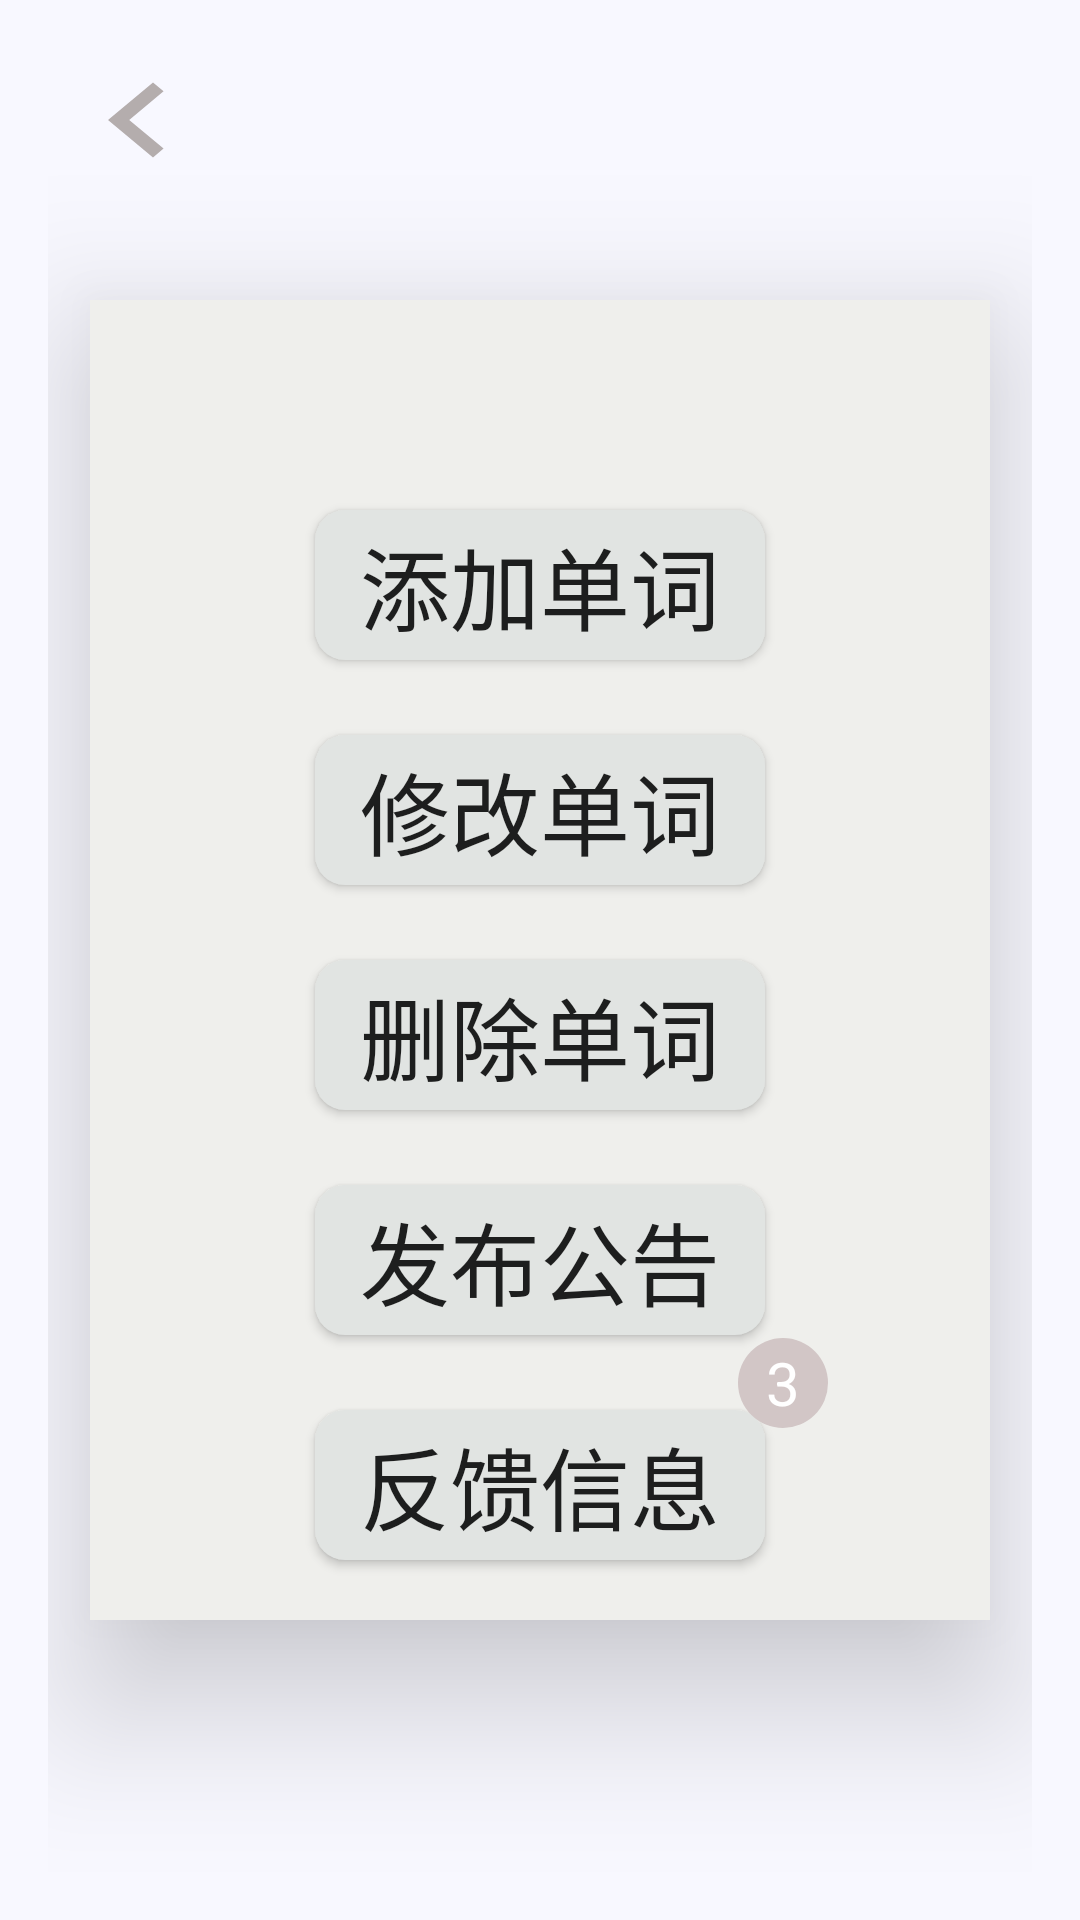

Named icons in this screenshot (1080w x 1920h) and their bounding boxes, (x1, y1, x2, y2):
keyboard arrow left: (108, 83, 163, 157)
